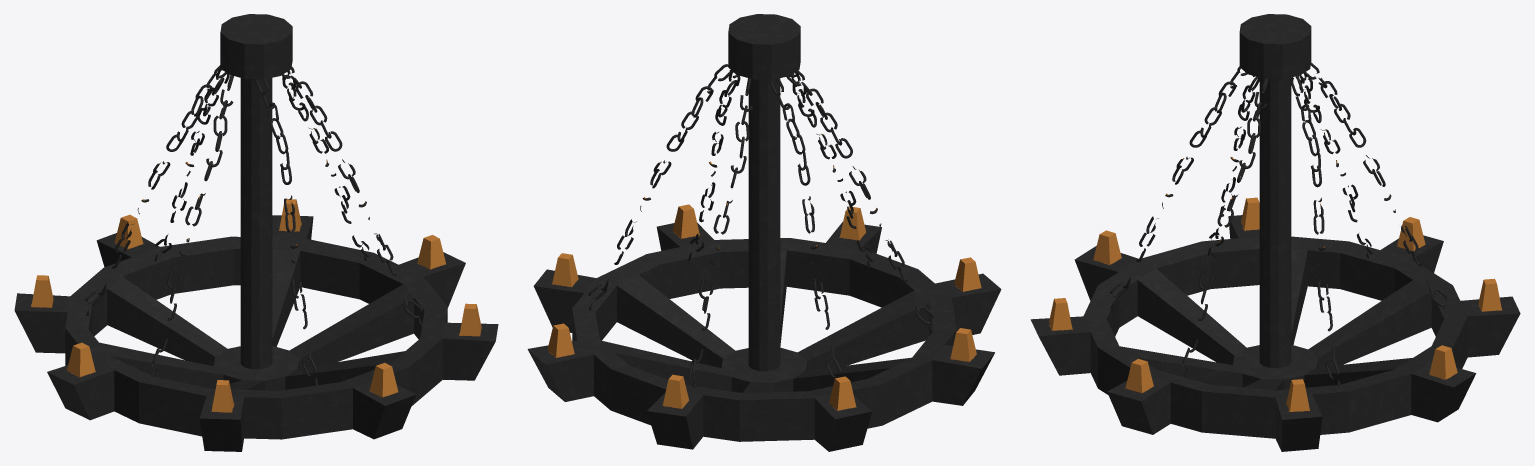
Rendered from candelabro.fbx.
3 renders of one model, left to right at view 1: azimuth 30°, elevation 25°; view 2: azimuth 150°, elevation 25°; view 3: azimuth 270°, elevation 25°, orthographic.
Visible parts, largest first — view 1: Candelabro, Circle.004, Circle.006, Circle.003, Circle.005, Circle.002, Circle.001; view 2: Candelabro, Circle.006, Circle.001, Circle.005, Circle.002, Circle.004, Circle.003; view 3: Candelabro, Circle.001, Circle.002, Circle.004, Circle.003, Circle.006, Circle.005.
Part boxes in pixels (box(x1,y1,x2,y2)): Candelabro: box(14, 14, 498, 451); Circle.004: box(255, 79, 317, 385); Circle.006: box(85, 65, 227, 315); Circle.003: box(282, 66, 422, 326); Circle.005: box(151, 75, 233, 377); Circle.002: box(154, 68, 229, 261); Circle.001: box(282, 70, 370, 260); Candelabro: box(527, 14, 1001, 451); Circle.006: box(769, 78, 841, 378); Circle.001: box(588, 64, 732, 310); Circle.005: box(786, 70, 935, 331); Circle.002: box(688, 78, 756, 387); Circle.004: box(789, 72, 873, 267); Circle.003: box(688, 72, 740, 261); Candelabro: box(1030, 14, 1520, 451); Circle.001: box(1290, 75, 1340, 388); Circle.002: box(1303, 62, 1447, 310); Circle.004: box(1110, 66, 1247, 309); Circle.003: box(1176, 78, 1268, 377); Circle.006: box(1299, 74, 1372, 258); Circle.005: box(1208, 76, 1259, 255).
Size of the model in its own units: 255 by 216 by 255.
Materials: 1 (1 with a texture image).
